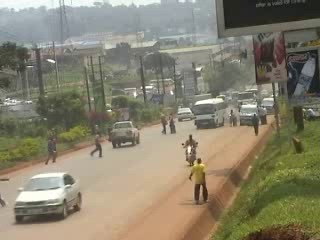Car: (12, 168, 85, 226), (172, 104, 193, 122)
Motorcycle: (180, 136, 198, 167)
